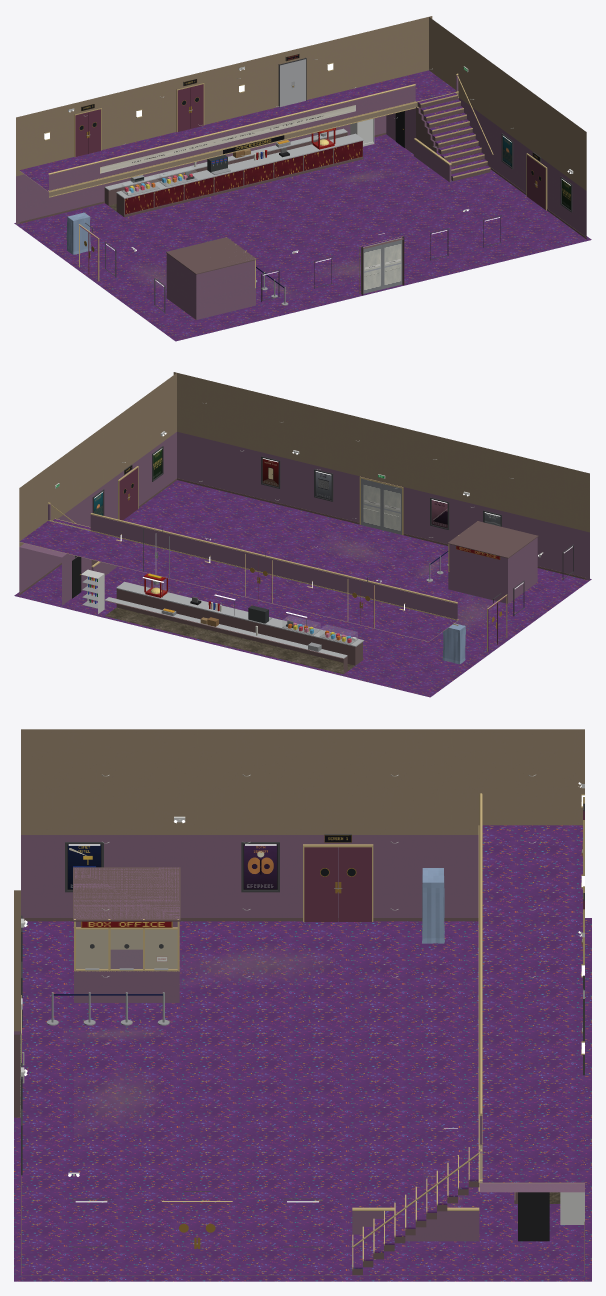
The model's file is cinema_lobby.glb.
The picture shows the model from 3 angles, top to bottom: view 1: azimuth 30°, elevation 25°; view 2: azimuth 150°, elevation 25°; view 3: azimuth 270°, elevation 25°; orthographic projection. The views are drawn at different scales.
Visible parts, largest first — view 1: Carpet_Cinema, Wall_Paint, Wall_Fabric, Trim_Dark, Sign_Paint, Brass, Metal_Steel, Fabric_Padded, Paint_Palette, Ceiling_Paint, Glass_Clear, Metal_Dark (+6 smaller); view 2: Carpet_Cinema, Wall_Paint, Wall_Fabric, Trim_Dark, Paint_Palette, Floor_Vinyl, Brass, Metal_Steel, Poster_Print, Metal_Dark, Decal_Dust, Glass_Clear (+6 smaller); view 3: Carpet_Cinema, Wall_Paint, Wall_Fabric, Trim_Dark, Paint_Palette, Brass, Fabric_Padded, Decal_Dust, Glass_Clear, Poster_Print, Metal_Dark, Cloth_Sheet (+2 smaller).
Part boxes in pixels (x1,y1,x2,y2): Carpet_Cinema: [14, 70, 591, 341]; Wall_Paint: [16, 16, 586, 190]; Wall_Fabric: [16, 75, 586, 319]; Trim_Dark: [19, 96, 586, 336]; Sign_Paint: [81, 54, 540, 214]; Brass: [44, 62, 547, 294]; Metal_Steel: [104, 59, 363, 198]; Fabric_Padded: [75, 84, 545, 280]; Paint_Palette: [79, 81, 541, 305]; Ceiling_Paint: [20, 92, 458, 196]; Glass_Clear: [122, 119, 372, 194]; Metal_Dark: [81, 57, 572, 313]; Carpet_Cinema: [14, 480, 591, 697]; Wall_Paint: [19, 372, 589, 546]; Wall_Fabric: [19, 431, 589, 619]; Trim_Dark: [19, 478, 586, 692]; Paint_Palette: [72, 483, 501, 651]; Floor_Vinyl: [105, 607, 354, 674]; Brass: [48, 466, 507, 651]; Metal_Steel: [105, 533, 363, 658]; Poster_Print: [94, 449, 500, 528]; Metal_Dark: [92, 446, 573, 632]; Decal_Dust: [150, 541, 487, 645]; Glass_Clear: [89, 579, 357, 643]; Carpet_Cinema: [14, 825, 591, 1281]; Wall_Paint: [14, 729, 584, 1031]; Wall_Fabric: [14, 835, 584, 1241]; Trim_Dark: [14, 867, 584, 1275]; Paint_Palette: [46, 844, 582, 1248]; Brass: [21, 793, 584, 1269]; Fabric_Padded: [163, 810, 584, 1203]; Decal_Dust: [86, 953, 459, 1199]; Glass_Clear: [76, 930, 176, 968]; Poster_Print: [67, 844, 277, 889]; Metal_Dark: [21, 803, 584, 1247]; Cloth_Sheet: [422, 868, 444, 943].
Bounding box in the file's own units: 24.4 × 6 × 16.4.
Materials: 23 (14 with a texture image).
